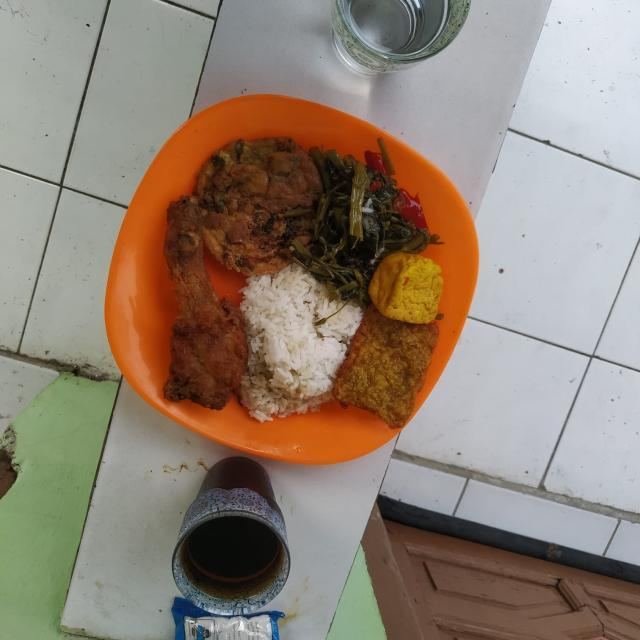ayam_goreng: (146, 190, 268, 424)
nasi_putih: (230, 278, 361, 431)
telur_ayam_dadar: (198, 126, 324, 286)
